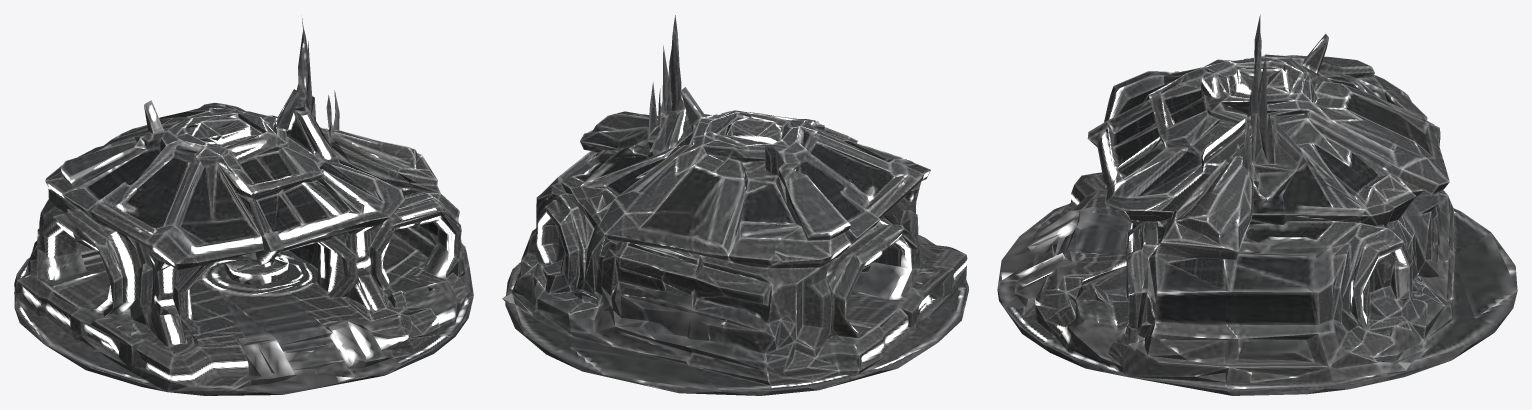
Rendered from station-surface.glb.
3 views of the same model, side by side, from view 1: azimuth 30°, elevation 25°; view 2: azimuth 150°, elevation 25°; view 3: azimuth 270°, elevation 25° (orthographic). The views are drawn at different scales.
Parts seen in each view (by area): view 1: Mesh_0; view 2: Mesh_0; view 3: Mesh_0.
Part boxes in pixels (<box>): Mesh_0: <box>14,18,473,395</box>; Mesh_0: <box>502,15,968,395</box>; Mesh_0: <box>997,14,1517,395</box>.
Bounding box in the file's own units: 6.19 × 4 × 6.18.
Materials: 1 (1 with a texture image).
